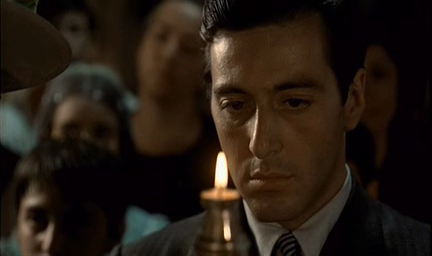cu: (1, 1, 432, 256)
face: (211, 49, 341, 223), (136, 8, 209, 101), (16, 194, 94, 256), (52, 96, 117, 155)
person: (107, 1, 432, 256), (110, 1, 223, 224)
